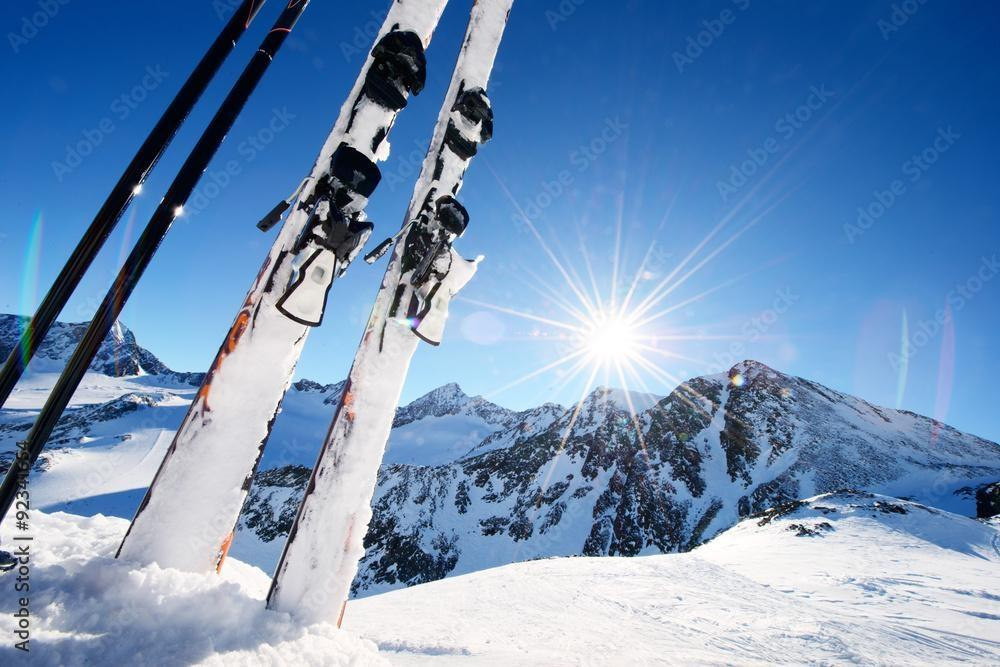Skis: (0, 0, 512, 628)
